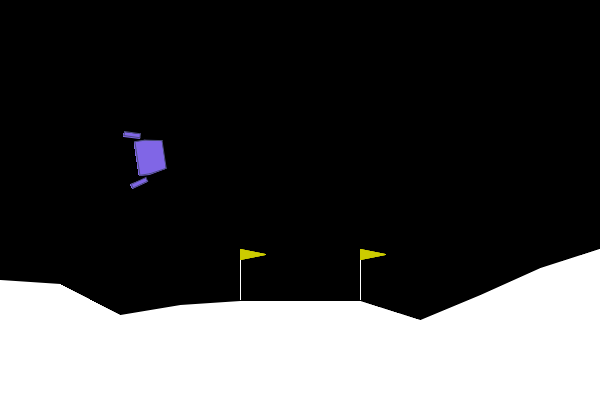lander: (122, 125, 170, 190)
